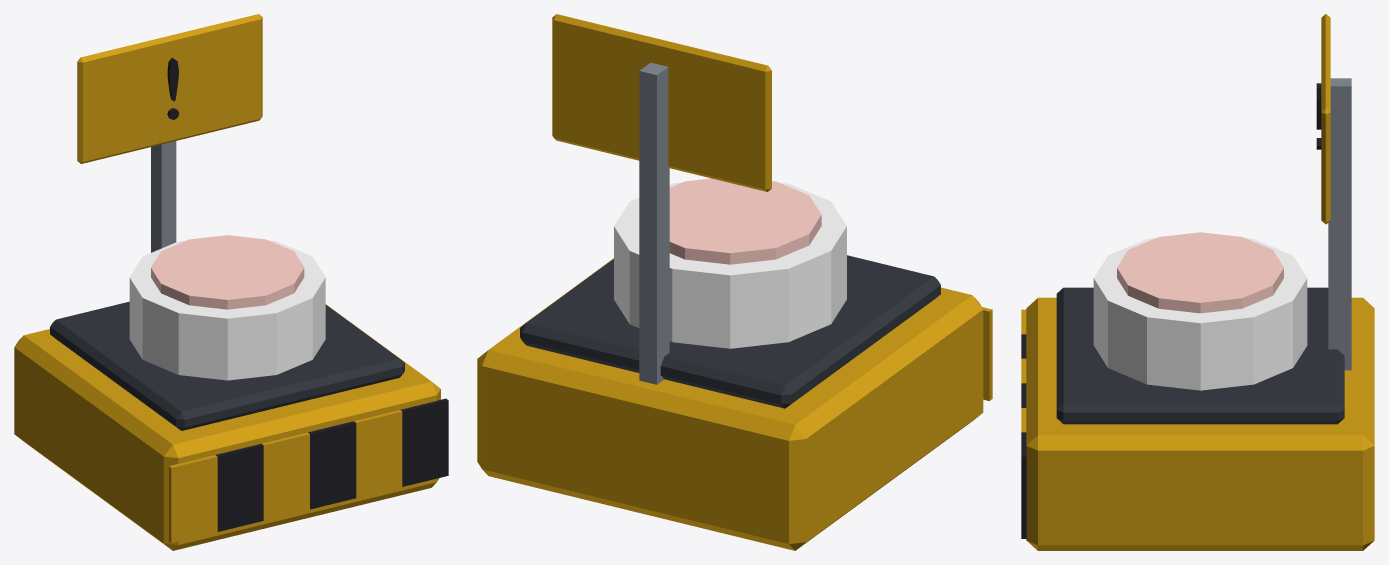
File: button.glb
3 views of the same model, side by side, from view 1: azimuth 30°, elevation 25°; view 2: azimuth 150°, elevation 25°; view 3: azimuth 270°, elevation 25° (orthographic). The views are drawn at different scales.
Parts seen in each view (by area): view 1: ButtonBase, Cap, Sign; view 2: ButtonBase, Sign, Cap; view 3: ButtonBase, Cap, Sign.
Boxes of the visible parts, x1,y1,x2,y2 form: ButtonBase: (14,301,448,550); Cap: (129,235,325,380); Sign: (77,14,262,252); ButtonBase: (477,255,992,550); Sign: (552,14,771,384); Cap: (614,178,846,348); ButtonBase: (1021,287,1374,550); Cap: (1093,232,1307,390); Sign: (1316,14,1351,370).
Bounding box in the file's own units: 1.5 × 2 × 1.52.
